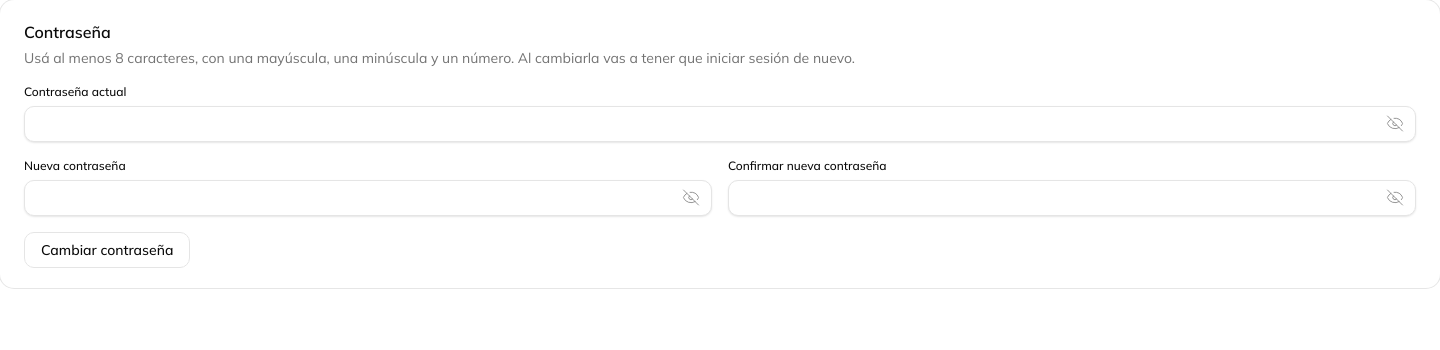
it: ChangePasswordForm › blocks submission and displays client validation errors
The width and height of the screenshot is (1440, 350).
In the password field labelled "Nueva contraseña": coordinates (368, 198) left=24, top=180, right=712, bottom=216, type "Abcdefg1"
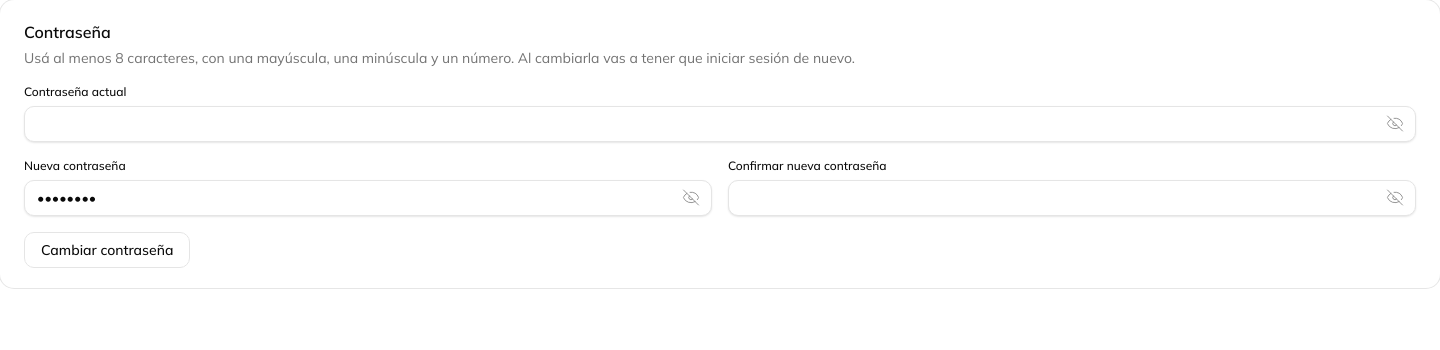
In the password field labelled "Confirmar nueva contraseña": coordinates (1072, 198) left=728, top=180, right=1416, bottom=216, type "Abcdefg2"
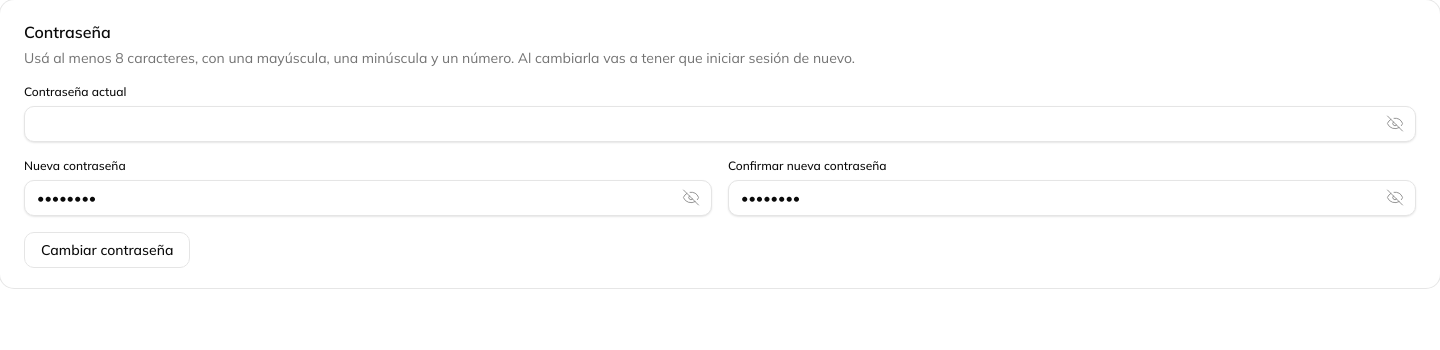
Click the button "Cambiar contraseña": coordinates (107, 250) left=24, top=232, right=190, bottom=268
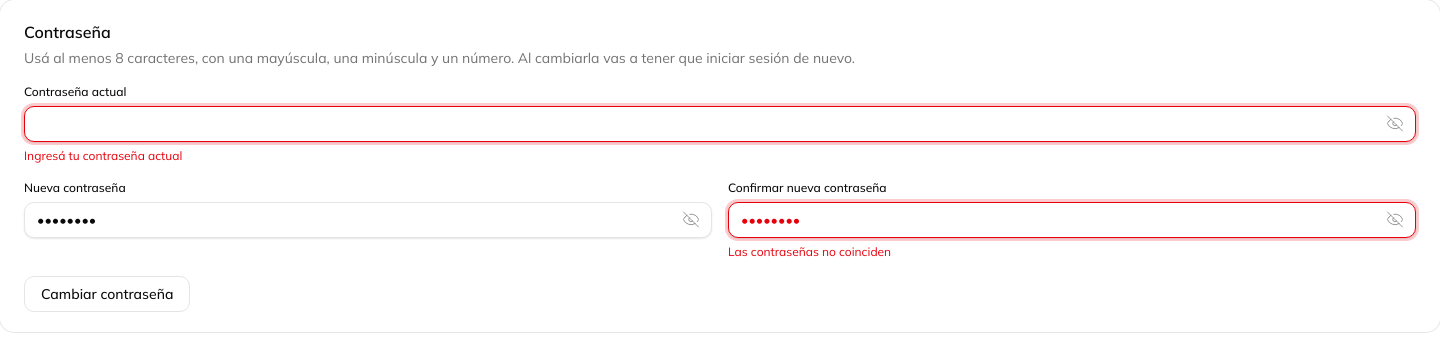
Expected: the text "Ingresá tu contraseña actual" is shown, left=24, top=148, right=182, bottom=163
Expected: the text "Las contraseñas no coinciden" is shown, left=728, top=244, right=891, bottom=259
